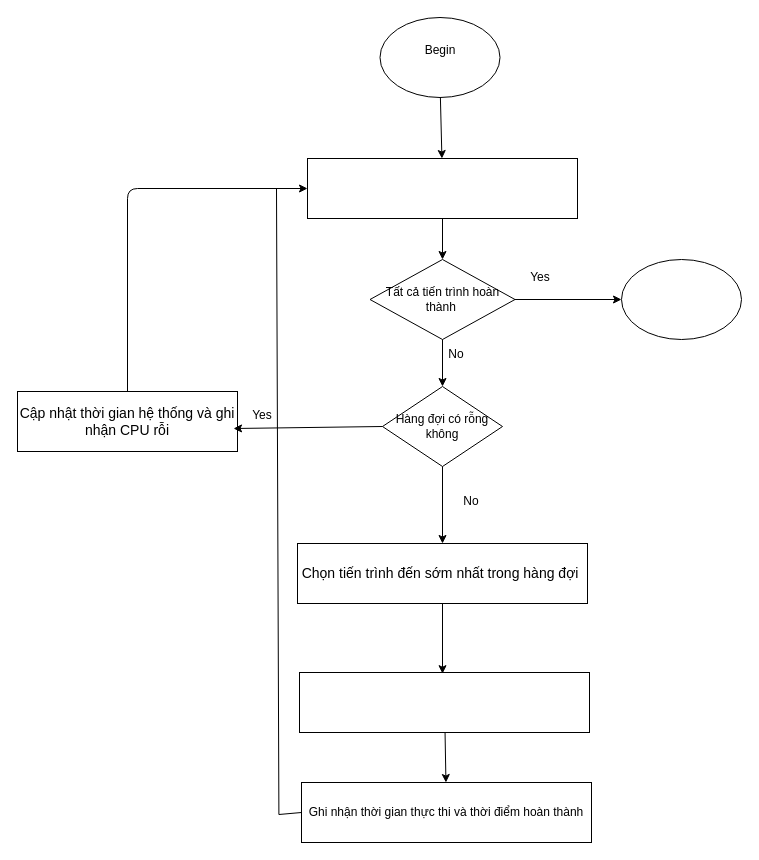
This 759x860 diagram has some shape labels left out. Here are the shapes that lost their labels. From the top down, the centre of each, then its label:
(442,188): Nạp danh sách tiến trình và cập nhật tiến trình đã
(681,299): End
(444,702): Thực thi tiến trình đã chọn đến khi hoàn thành
